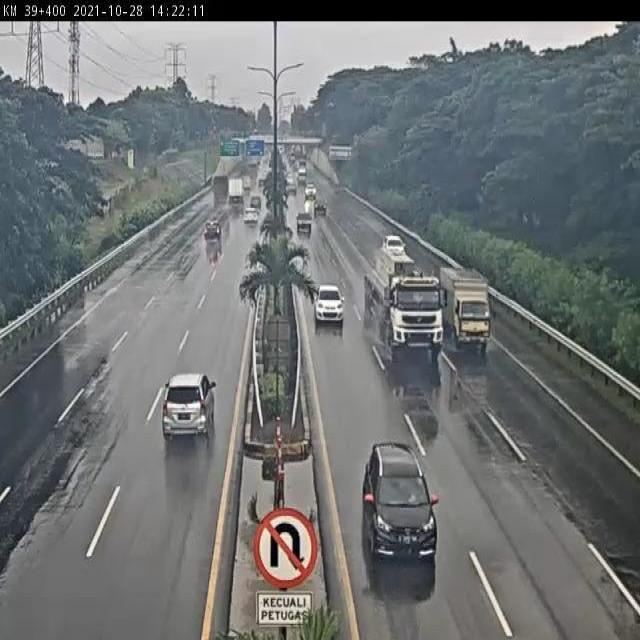car: (358, 439, 442, 565), (156, 371, 216, 445), (314, 281, 346, 323), (202, 221, 224, 243), (381, 232, 402, 248)
truck-l-: (365, 248, 445, 359)
truck-s-: (441, 268, 493, 349)
